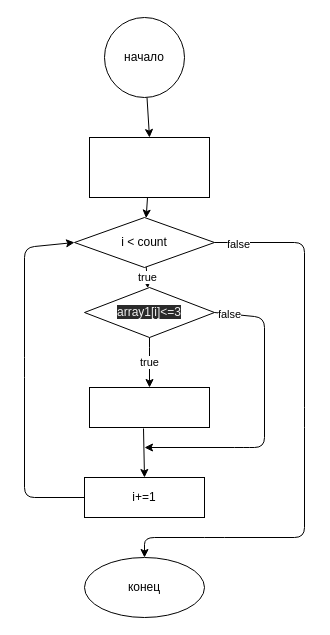
Image size: 330x635. Some labels were removed from this diagram. The shapes that lost their labels are listed below. From the top down, each one's box as (x1, y1, x2, y2) in pixels, then its label:
(88, 136, 210, 198): count array1[string, count] array2[string, count] index=0
(88, 386, 210, 428): array1[i] = array2[i]
